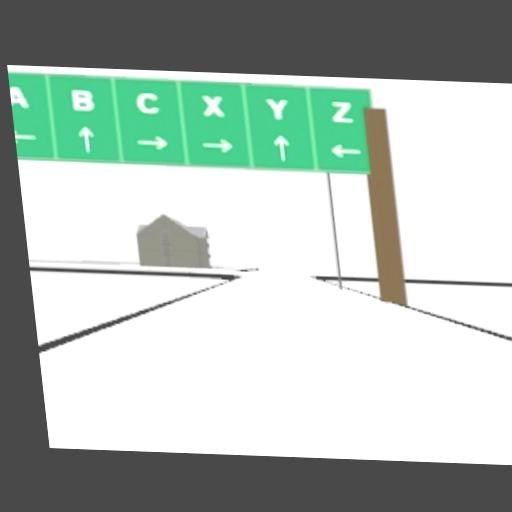A: (9, 84, 28, 105)
B: (69, 88, 94, 110)
C: (135, 90, 160, 112)
Left: (329, 142, 361, 157), (15, 129, 37, 144)
Right: (200, 136, 234, 153), (136, 134, 170, 149)
Straight: (76, 124, 96, 151), (272, 133, 291, 161)
X: (199, 93, 224, 114)
Y: (264, 95, 290, 119)
Z: (328, 99, 354, 121)
